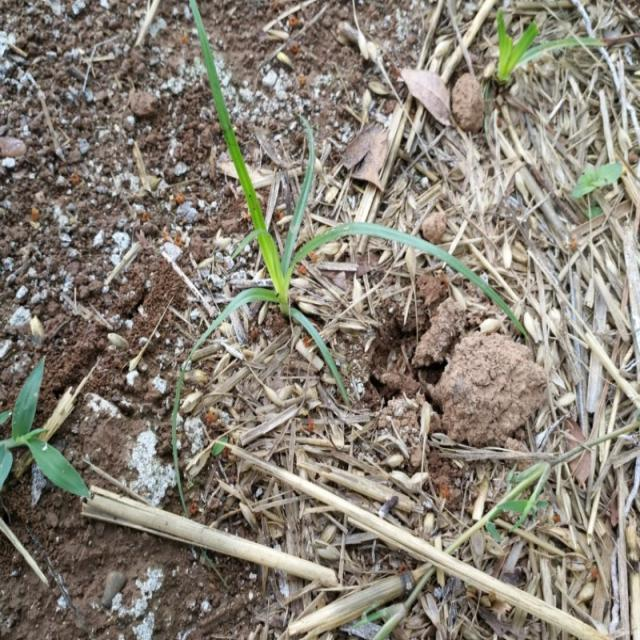sedge: (155, 19, 510, 480)
